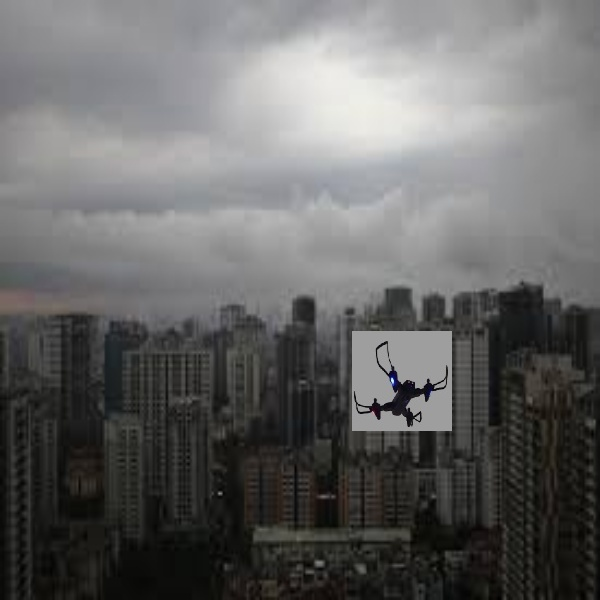drone: (356, 337, 451, 429)
